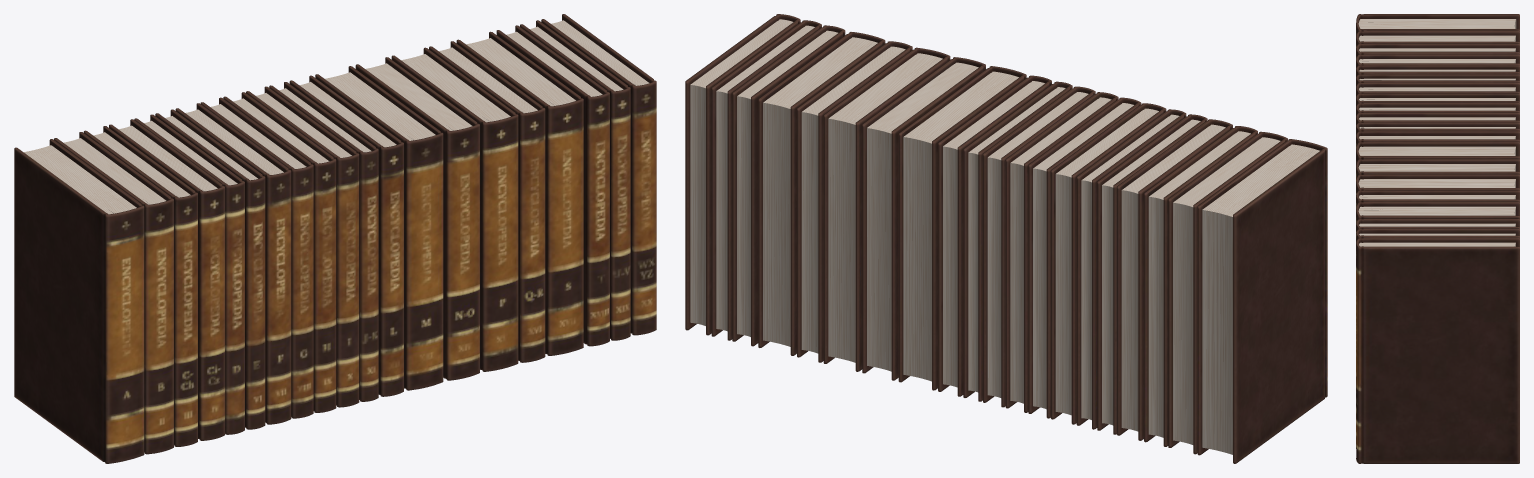
The model's file is book_encyclopedia_shelf_lod.gltf.
3 renders of one model, left to right at view 1: azimuth 30°, elevation 25°; view 2: azimuth 150°, elevation 25°; view 3: azimuth 270°, elevation 25°, orthographic. The views are drawn at different scales.
Parts seen in each view (by area): view 1: book_encyclopedia_set_01_book01, book_encyclopedia_set_01_book13, book_encyclopedia_set_01_book15, book_encyclopedia_set_01_book17, book_encyclopedia_set_01_book14, book_encyclopedia_set_01_book02, book_encyclopedia_set_01_book16, book_encyclopedia_set_01_book04, book_encyclopedia_set_01_book18, book_encyclopedia_set_01_book20, book_encyclopedia_set_01_book07, book_encyclopedia_set_01_book12 (+8 smaller); view 2: book_encyclopedia_set_01_book01, book_encyclopedia_set_01_book13, book_encyclopedia_set_01_book15, book_encyclopedia_set_01_book17, book_encyclopedia_set_01_book14, book_encyclopedia_set_01_book02, book_encyclopedia_set_01_book04, book_encyclopedia_set_01_book16, book_encyclopedia_set_01_book18, book_encyclopedia_set_01_book20, book_encyclopedia_set_01_book07, book_encyclopedia_set_01_book12 (+8 smaller); view 3: book_encyclopedia_set_01_book20, book_encyclopedia_set_01_book13, book_encyclopedia_set_01_book01, book_encyclopedia_set_01_book17, book_encyclopedia_set_01_book15, book_encyclopedia_set_01_book14, book_encyclopedia_set_01_book02, book_encyclopedia_set_01_book16, book_encyclopedia_set_01_book03, book_encyclopedia_set_01_book12, book_encyclopedia_set_01_book07, book_encyclopedia_set_01_book04 (+8 smaller).
Part boxes in pixels (x1,y1,x2,y2): book_encyclopedia_set_01_book01: [14, 139, 144, 463]; book_encyclopedia_set_01_book13: [315, 66, 443, 390]; book_encyclopedia_set_01_book15: [391, 47, 518, 371]; book_encyclopedia_set_01_book17: [456, 31, 583, 355]; book_encyclopedia_set_01_book14: [355, 57, 479, 380]; book_encyclopedia_set_01_book02: [54, 132, 173, 454]; book_encyclopedia_set_01_book16: [429, 41, 545, 362]; book_encyclopedia_set_01_book04: [109, 119, 224, 440]; book_encyclopedia_set_01_book18: [496, 25, 609, 346]; book_encyclopedia_set_01_book20: [541, 14, 656, 335]; book_encyclopedia_set_01_book07: [175, 103, 291, 424]; book_encyclopedia_set_01_book12: [289, 75, 403, 396]; book_encyclopedia_set_01_book01: [1197, 139, 1327, 463]; book_encyclopedia_set_01_book13: [898, 66, 1026, 390]; book_encyclopedia_set_01_book15: [823, 47, 950, 371]; book_encyclopedia_set_01_book17: [758, 32, 885, 355]; book_encyclopedia_set_01_book14: [862, 57, 985, 380]; book_encyclopedia_set_01_book02: [1168, 131, 1287, 454]; book_encyclopedia_set_01_book04: [1117, 119, 1232, 440]; book_encyclopedia_set_01_book16: [797, 41, 912, 362]; book_encyclopedia_set_01_book18: [732, 25, 845, 346]; book_encyclopedia_set_01_book20: [685, 14, 800, 335]; book_encyclopedia_set_01_book07: [1051, 103, 1166, 424]; book_encyclopedia_set_01_book12: [938, 75, 1051, 396]; book_encyclopedia_set_01_book20: [1356, 238, 1519, 463]; book_encyclopedia_set_01_book13: [1356, 142, 1519, 180]; book_encyclopedia_set_01_book01: [1356, 14, 1519, 47]; book_encyclopedia_set_01_book17: [1356, 202, 1519, 224]; book_encyclopedia_set_01_book15: [1356, 174, 1519, 194]; book_encyclopedia_set_01_book14: [1356, 159, 1519, 178]; book_encyclopedia_set_01_book02: [1356, 30, 1519, 46]; book_encyclopedia_set_01_book16: [1356, 190, 1519, 208]; book_encyclopedia_set_01_book03: [1356, 43, 1519, 59]; book_encyclopedia_set_01_book12: [1356, 131, 1519, 148]; book_encyclopedia_set_01_book07: [1356, 82, 1519, 96]; book_encyclopedia_set_01_book04: [1356, 54, 1519, 68].
Size of the model in its own units: 0.5513 by 0.2374 by 0.1631.
2 materials, 2 textured.
